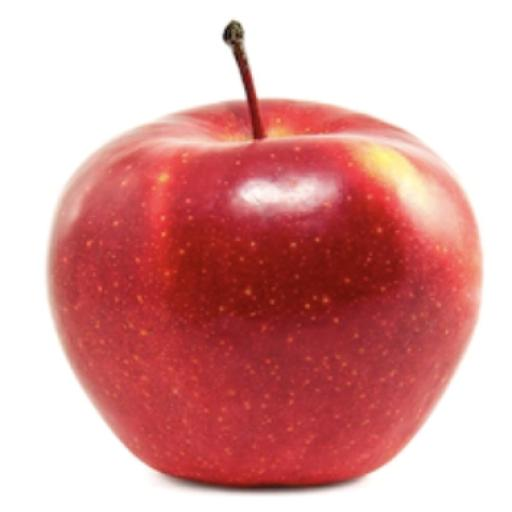apple: (49, 97, 481, 485)
